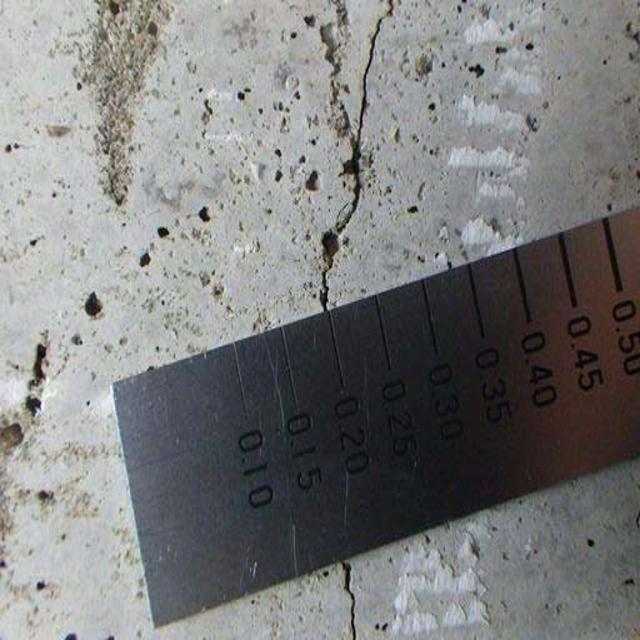crack: (282, 10, 407, 304), (318, 563, 398, 640)
